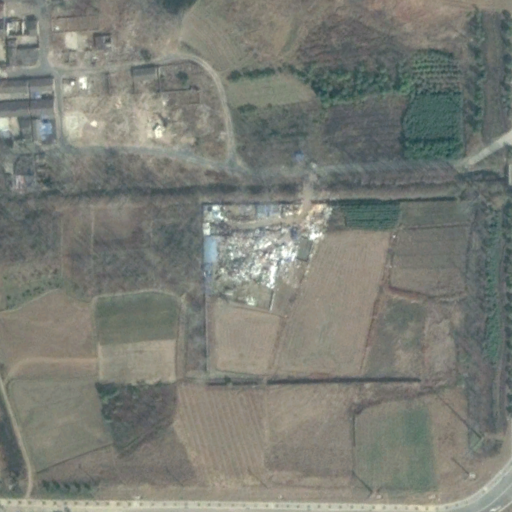msw: (205, 206, 328, 288)
